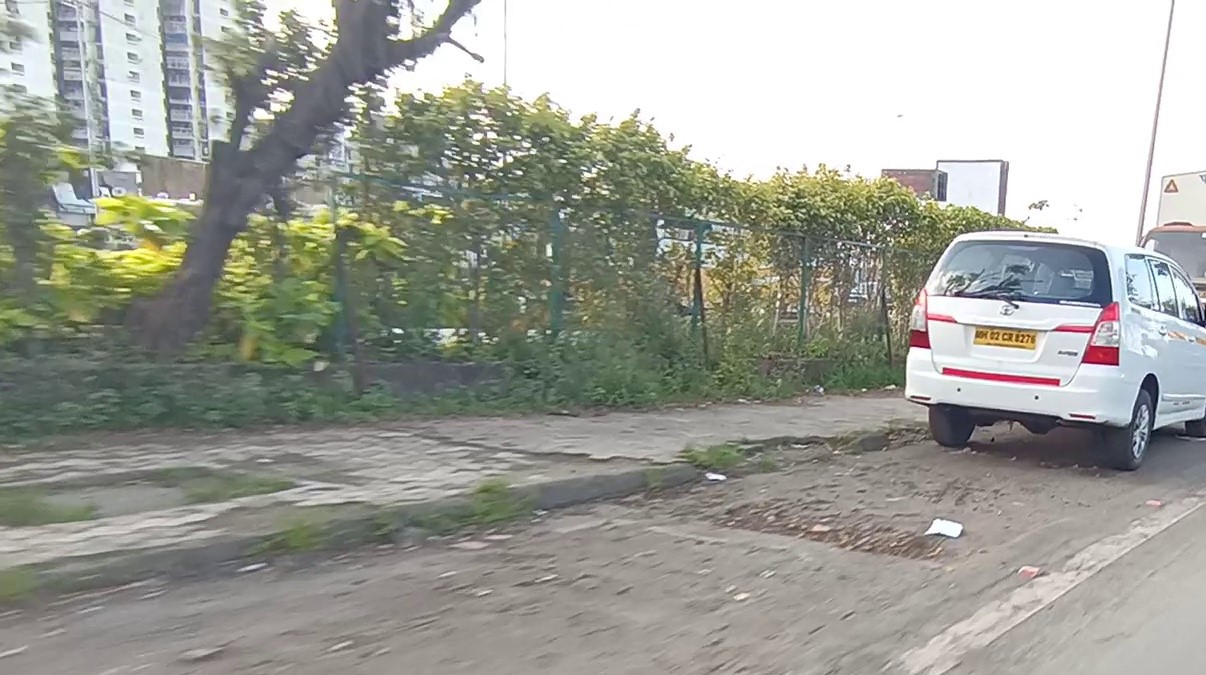MH02CR8276: (973, 326, 1038, 348)
